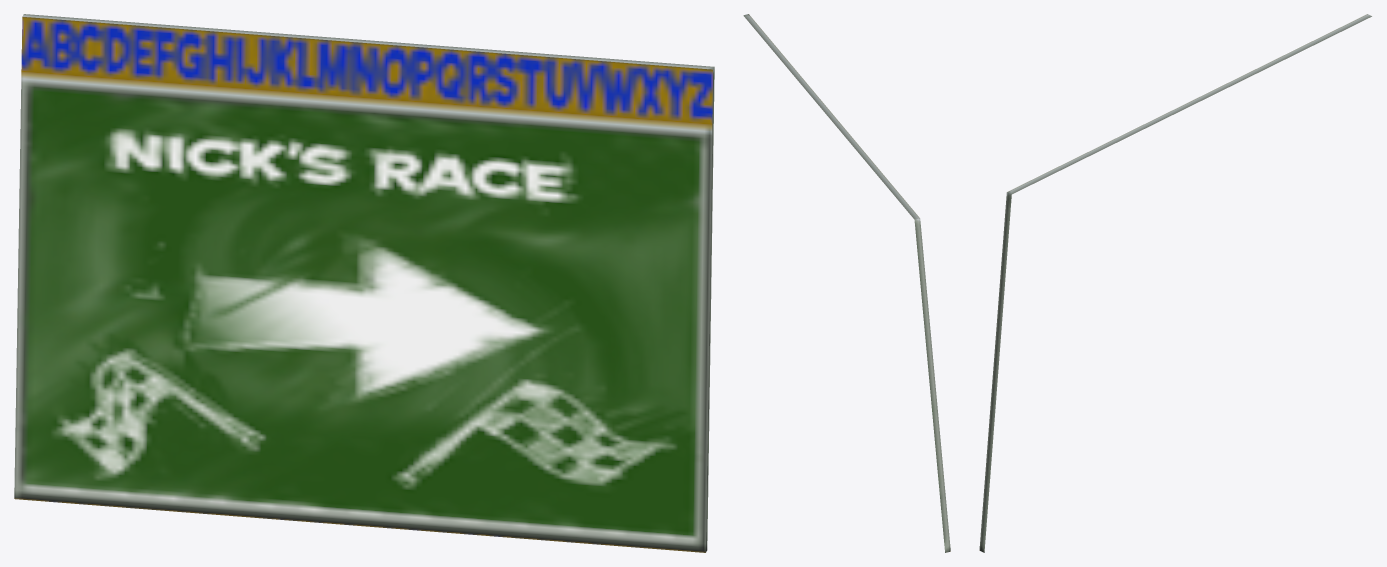
The model's file is raceboard04.glb.
3 views of the same model, side by side, from view 1: azimuth 30°, elevation 25°; view 2: azimuth 150°, elevation 25°; view 3: azimuth 270°, elevation 25° (orthographic). The views are drawn at different scales.
Visible parts, largest first — view 1: raceboard04; view 2: raceboard04; view 3: raceboard04.
Boxes of the visible parts, bbox=[...] form: raceboard04: bbox=[14, 14, 714, 552]; raceboard04: bbox=[743, 14, 950, 552]; raceboard04: bbox=[979, 14, 1371, 552].
Bounding box in the file's own units: 290 × 262 × 253.
Materials: 1 (1 with a texture image).
